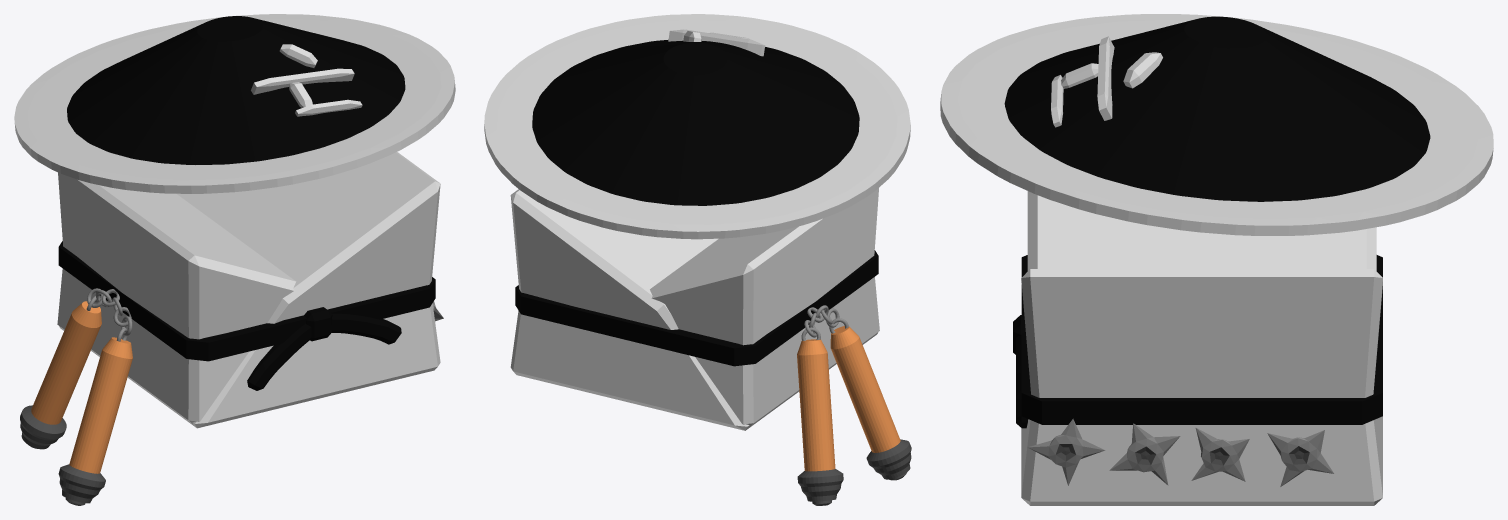
File: LethalNinja.fbx
3 views of the same model, side by side, from view 1: azimuth 30°, elevation 25°; view 2: azimuth 150°, elevation 25°; view 3: azimuth 270°, elevation 25° (orthographic). The views are drawn at different scales.
Visible parts, largest first — view 1: Cube.001, Cone, Cylinder, Cube.004, Cylinder.001, Cylinder.002, Cube.005; view 2: Cube.001, Cone, Cylinder, Cube.004, Cylinder.002, Cylinder.001, Cube.005; view 3: Cube.001, Cone, Cylinder, Cube.004, Cube.005, Icosphere.003, Icosphere.001, Icosphere, Icosphere.002.
Boxes of the visible parts, x1,y1,x2,y2 form: Cube.001: (57,152,440,428); Cone: (67,16,405,164); Cylinder: (14,14,455,193); Cube.004: (58,241,435,390); Cylinder.001: (58,337,132,505); Cylinder.002: (20,301,101,449); Cube.005: (251,44,362,116); Cube.001: (510,188,879,430); Cone: (532,39,859,205); Cylinder: (484,14,910,239); Cube.004: (515,250,878,366); Cylinder.002: (797,339,843,505); Cylinder.001: (830,326,911,480); Cube.005: (668,29,765,56); Cube.001: (1021,191,1382,505); Cone: (1004,16,1430,201); Cylinder: (940,14,1493,235); Cube.004: (1013,255,1382,428); Cube.005: (1051,36,1162,127); Icosphere.003: (1267,430,1333,486); Icosphere.001: (1109,423,1180,485); Icosphere: (1027,418,1104,485); Icosphere.002: (1191,428,1249,481).
Bounding box in the file's own units: 320 × 328 × 316.
